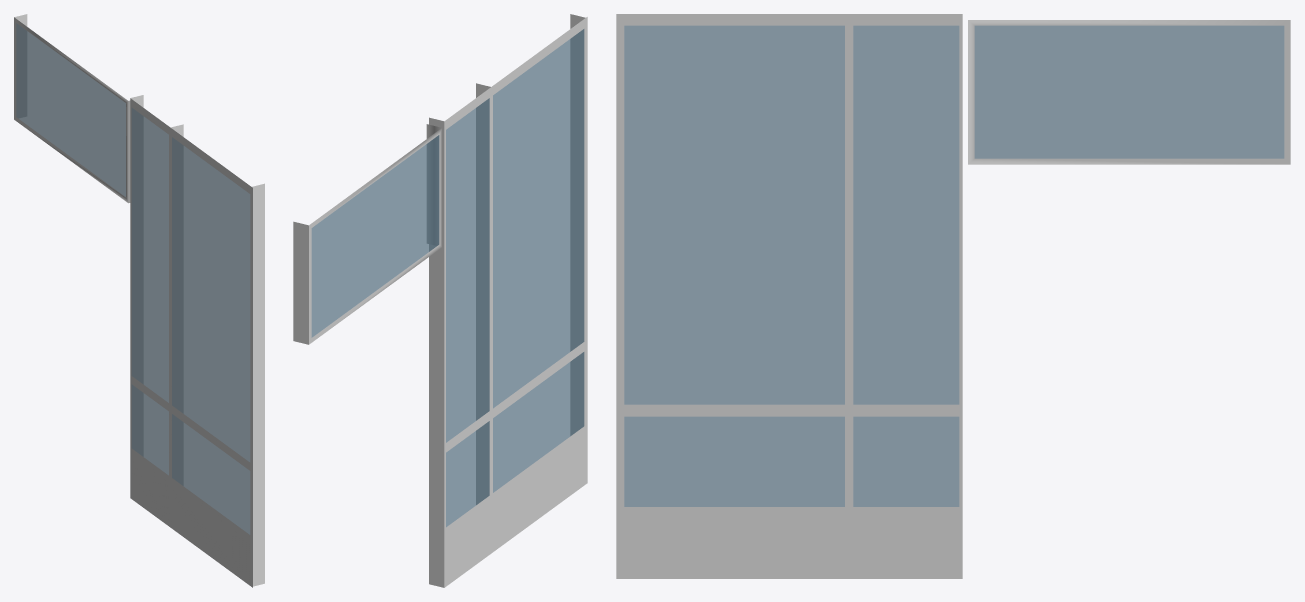
Rendered from p55-entrance-enter-glas-short.fbx.
3 views of the same model, side by side, from view 1: azimuth 30°, elevation 25°; view 2: azimuth 150°, elevation 25°; view 3: azimuth 270°, elevation 25° (orthographic). The views are drawn at different scales.
Visible parts, largest first — view 1: p55-entrance-enter-glas-short; view 2: p55-entrance-enter-glas-short; view 3: p55-entrance-enter-glas-short.
Boxes of the visible parts, left/top/right/bottom form: p55-entrance-enter-glas-short: left=14, top=14, right=264, bottom=587; p55-entrance-enter-glas-short: left=293, top=14, right=587, bottom=587; p55-entrance-enter-glas-short: left=616, top=14, right=1290, bottom=578.
Size of the model in its own units: 10 by 289 by 312.
